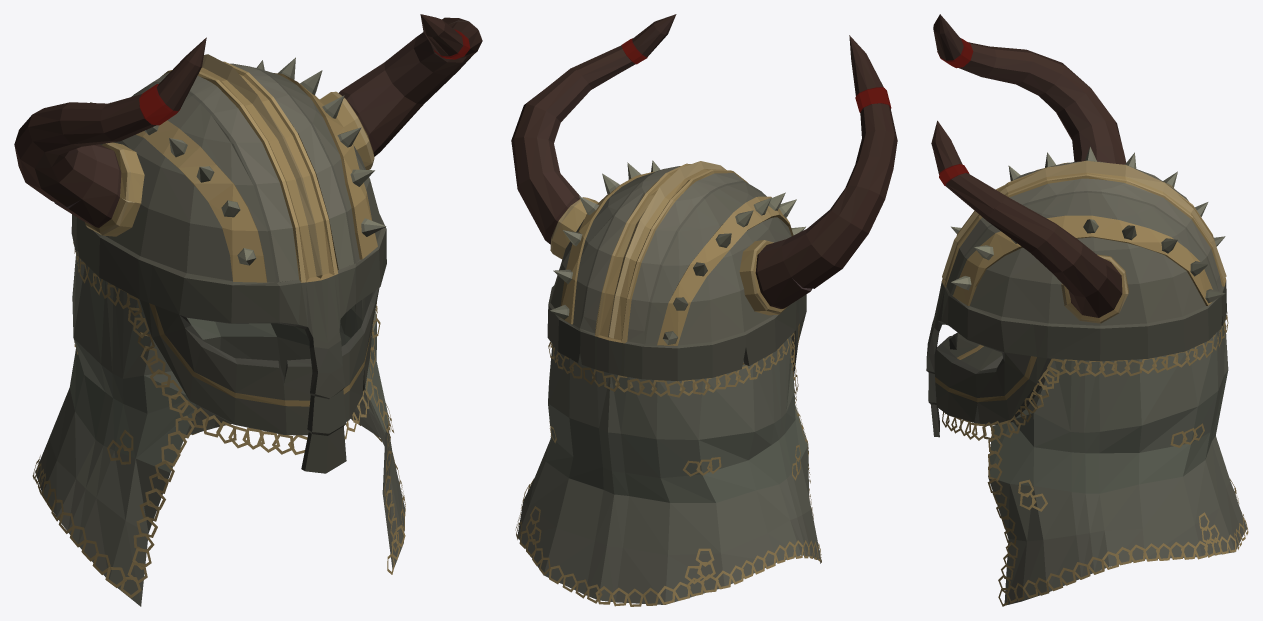
File: heavyVikingHelmetHorned.glb
3 views of the same model, side by side, from view 1: azimuth 30°, elevation 25°; view 2: azimuth 150°, elevation 25°; view 3: azimuth 270°, elevation 25° (orthographic). The views are drawn at different scales.
Parts seen in each view (by area): view 1: heavyVikingHelmetHorned; view 2: heavyVikingHelmetHorned; view 3: heavyVikingHelmetHorned.
Boxes of the visible parts, bbox=[...] form: heavyVikingHelmetHorned: bbox=[14, 14, 482, 606]; heavyVikingHelmetHorned: bbox=[511, 14, 897, 606]; heavyVikingHelmetHorned: bbox=[926, 14, 1248, 606].
Bounding box in the file's own units: 0.459 × 0.6198 × 0.3588.
